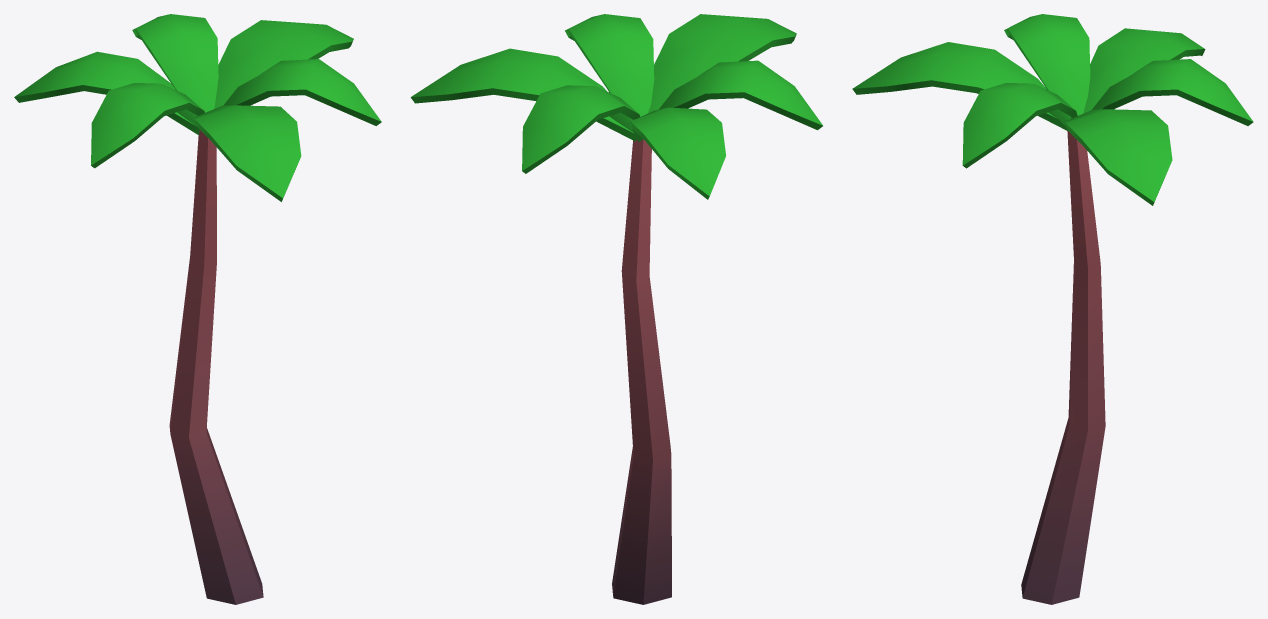
Rendered from Tree.FBX.
3 renders of one model, left to right at view 1: azimuth 30°, elevation 25°; view 2: azimuth 150°, elevation 25°; view 3: azimuth 270°, elevation 25°, orthographic. The views are drawn at different scales.
Visible parts, largest first — view 1: Cylinder002; view 2: Cylinder002; view 3: Cylinder002.
Part boxes in pixels (x1,y1,x2,y2): Cylinder002: (14,14,381,604); Cylinder002: (410,14,822,604); Cylinder002: (852,14,1253,604).
Size of the model in its own units: 154 by 234 by 162.
Materials: 1 (1 with a texture image).
